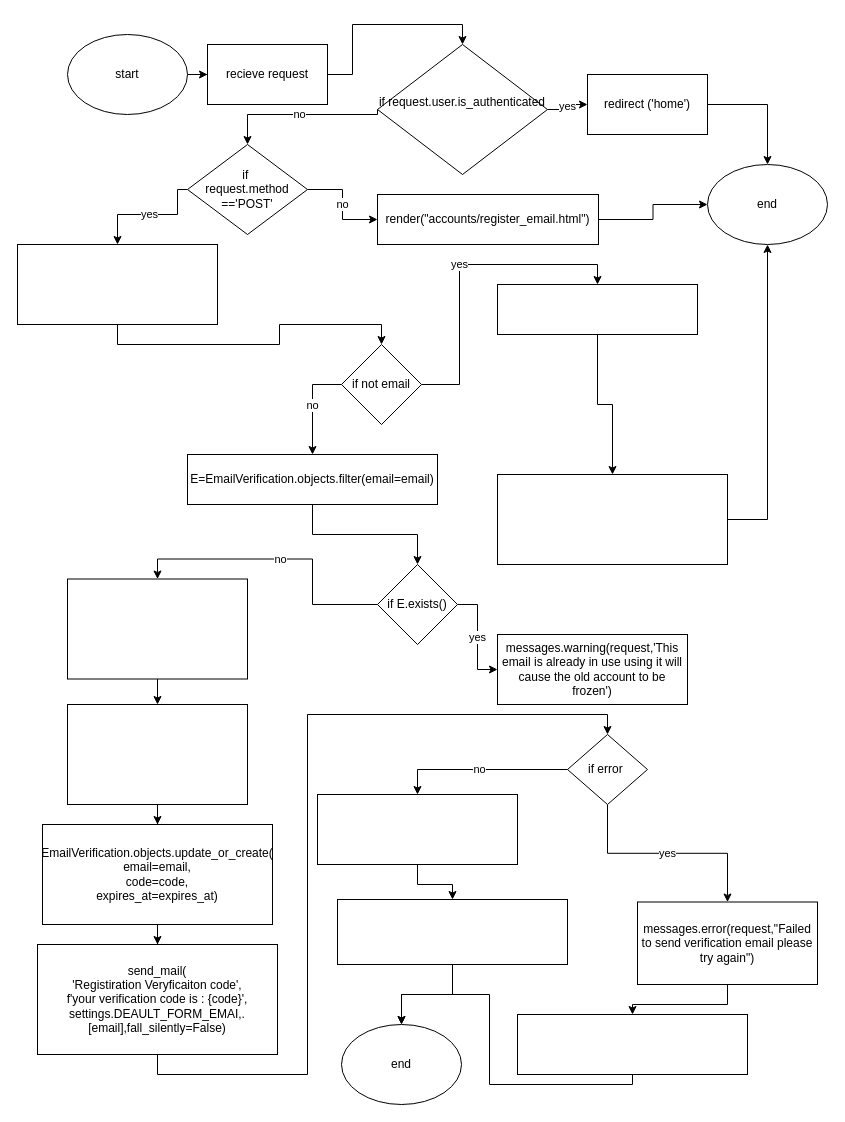
Image size: 845x1122. Some labels were removed from this diagram. The shapes that lost their labels are listed below. From the top down, each one's centre as x and y in pixels, then its label:
pixel 117 284: email=request.POST.get('email')
pixel 597 309: messages.error(request,"Email is required")
pixel 612 519: render (request,'accounts/register_email.html')
pixel 157 628: code=f"{randbelow(1000000):06d}
pixel 157 754: expires_at=timezone.now + timezone.timedelta(minutes=5)
pixel 417 829: request.session['verification_email'] = email
pixel 452 931: render (request,'acocounts/register_email.html')
pixel 632 1044: render (request,"accounts/register_email.html")
